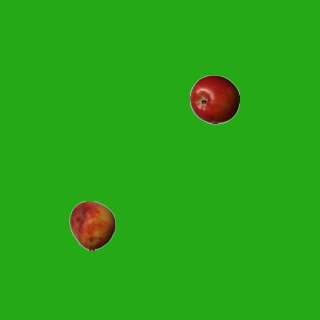Apple Braeburn: (189, 74, 239, 124)
Peach: (67, 200, 117, 250)
